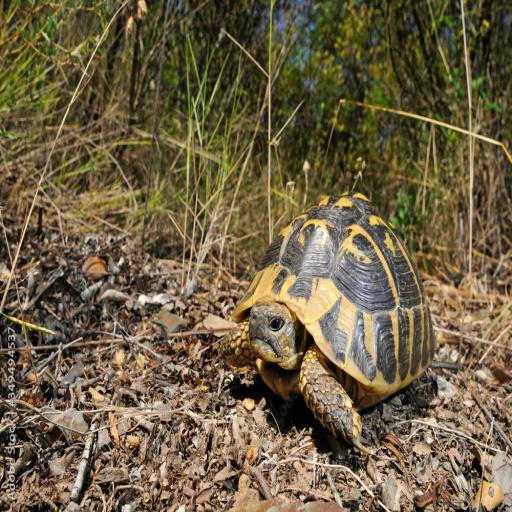turtle: (214, 185, 446, 455)
